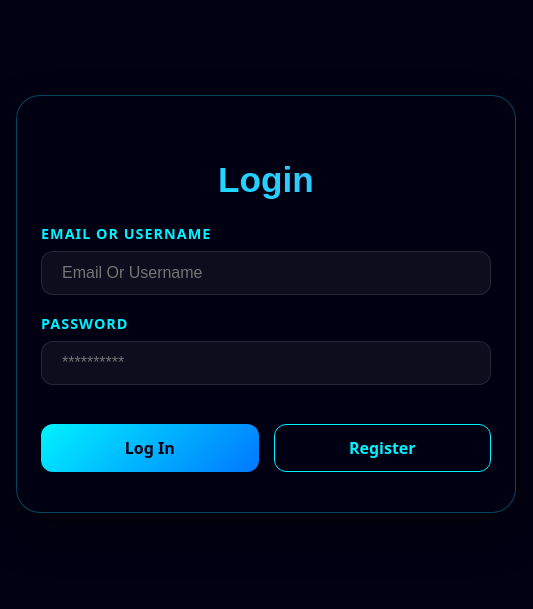
Test: opens register form
Click the button "Register".
click(382, 448)  # box top-left (274, 424), bottom-right (491, 472)
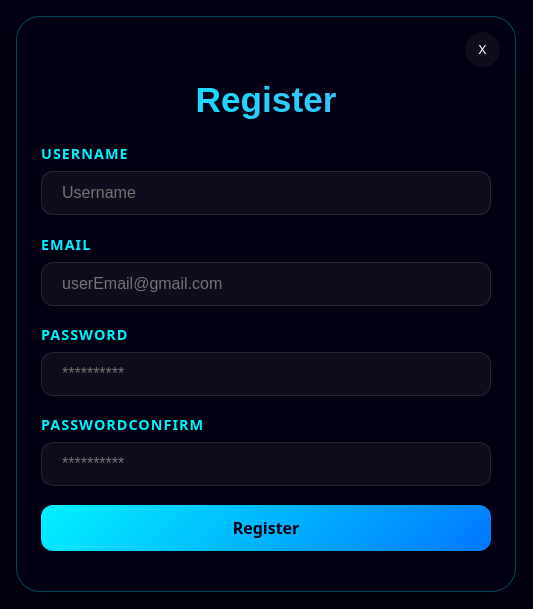
Result: the heading "Register" is shown at top-left (41, 80), bottom-right (491, 120)
